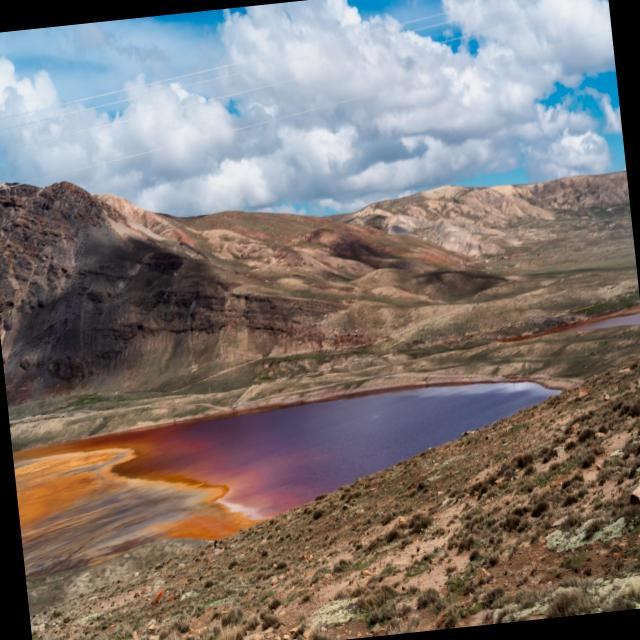yellow_boy: (13, 441, 263, 577)
